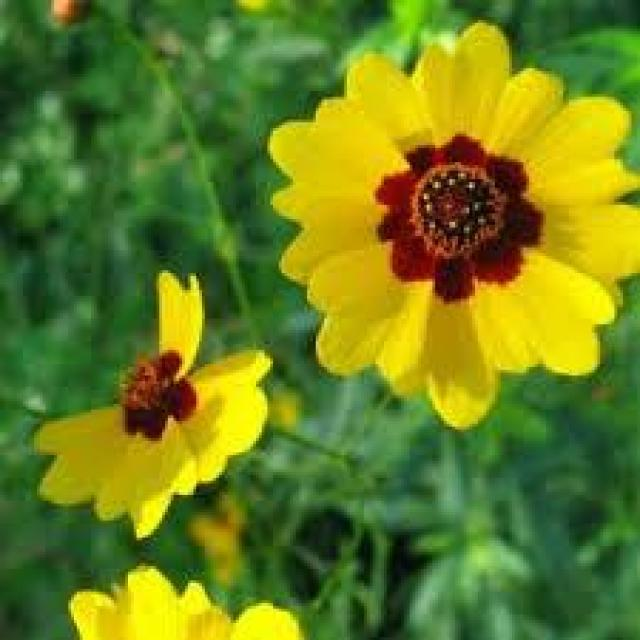organic waste: (273, 27, 626, 394), (40, 270, 284, 538)
